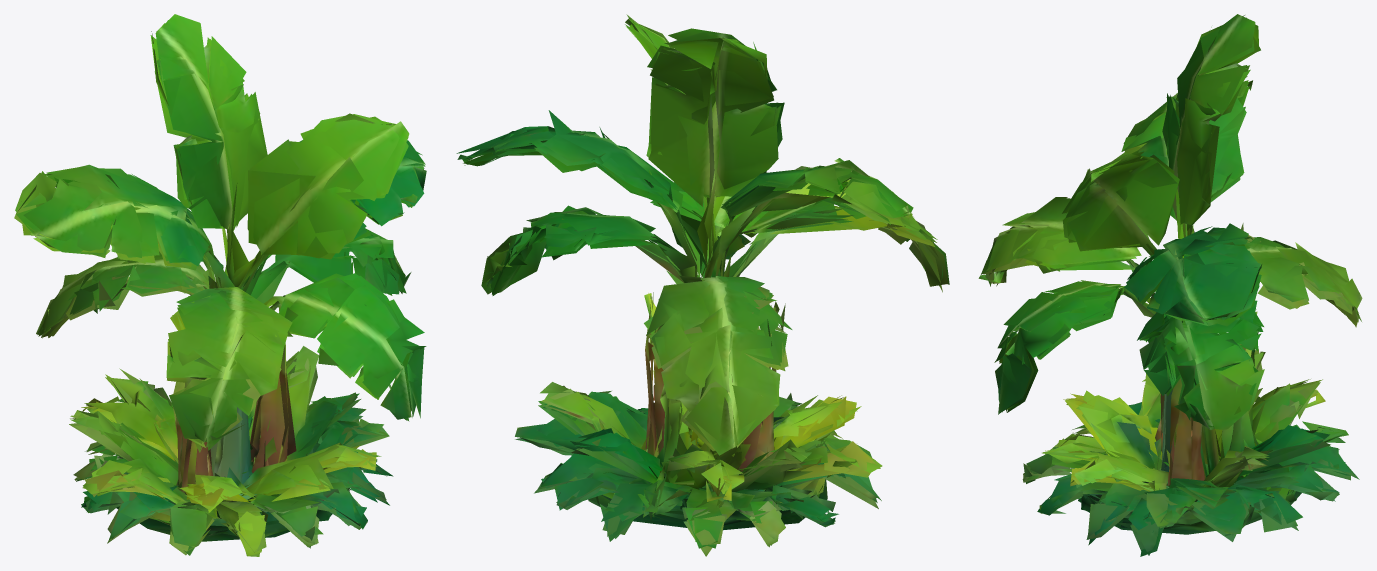
Rendered from bigleaf.glb.
3 renders of one model, left to right at view 1: azimuth 30°, elevation 25°; view 2: azimuth 150°, elevation 25°; view 3: azimuth 270°, elevation 25°, orthographic. The views are drawn at different scales.
Parts seen in each view (by area): view 1: Mesh_0; view 2: Mesh_0; view 3: Mesh_0.
Part boxes in pixels (<box>): Mesh_0: <box>14,14,426,556</box>; Mesh_0: <box>456,14,949,556</box>; Mesh_0: <box>978,14,1362,556</box>.
Size of the model in its own units: 0.9269 by 1 by 0.7567.
1 material, 1 textured.
